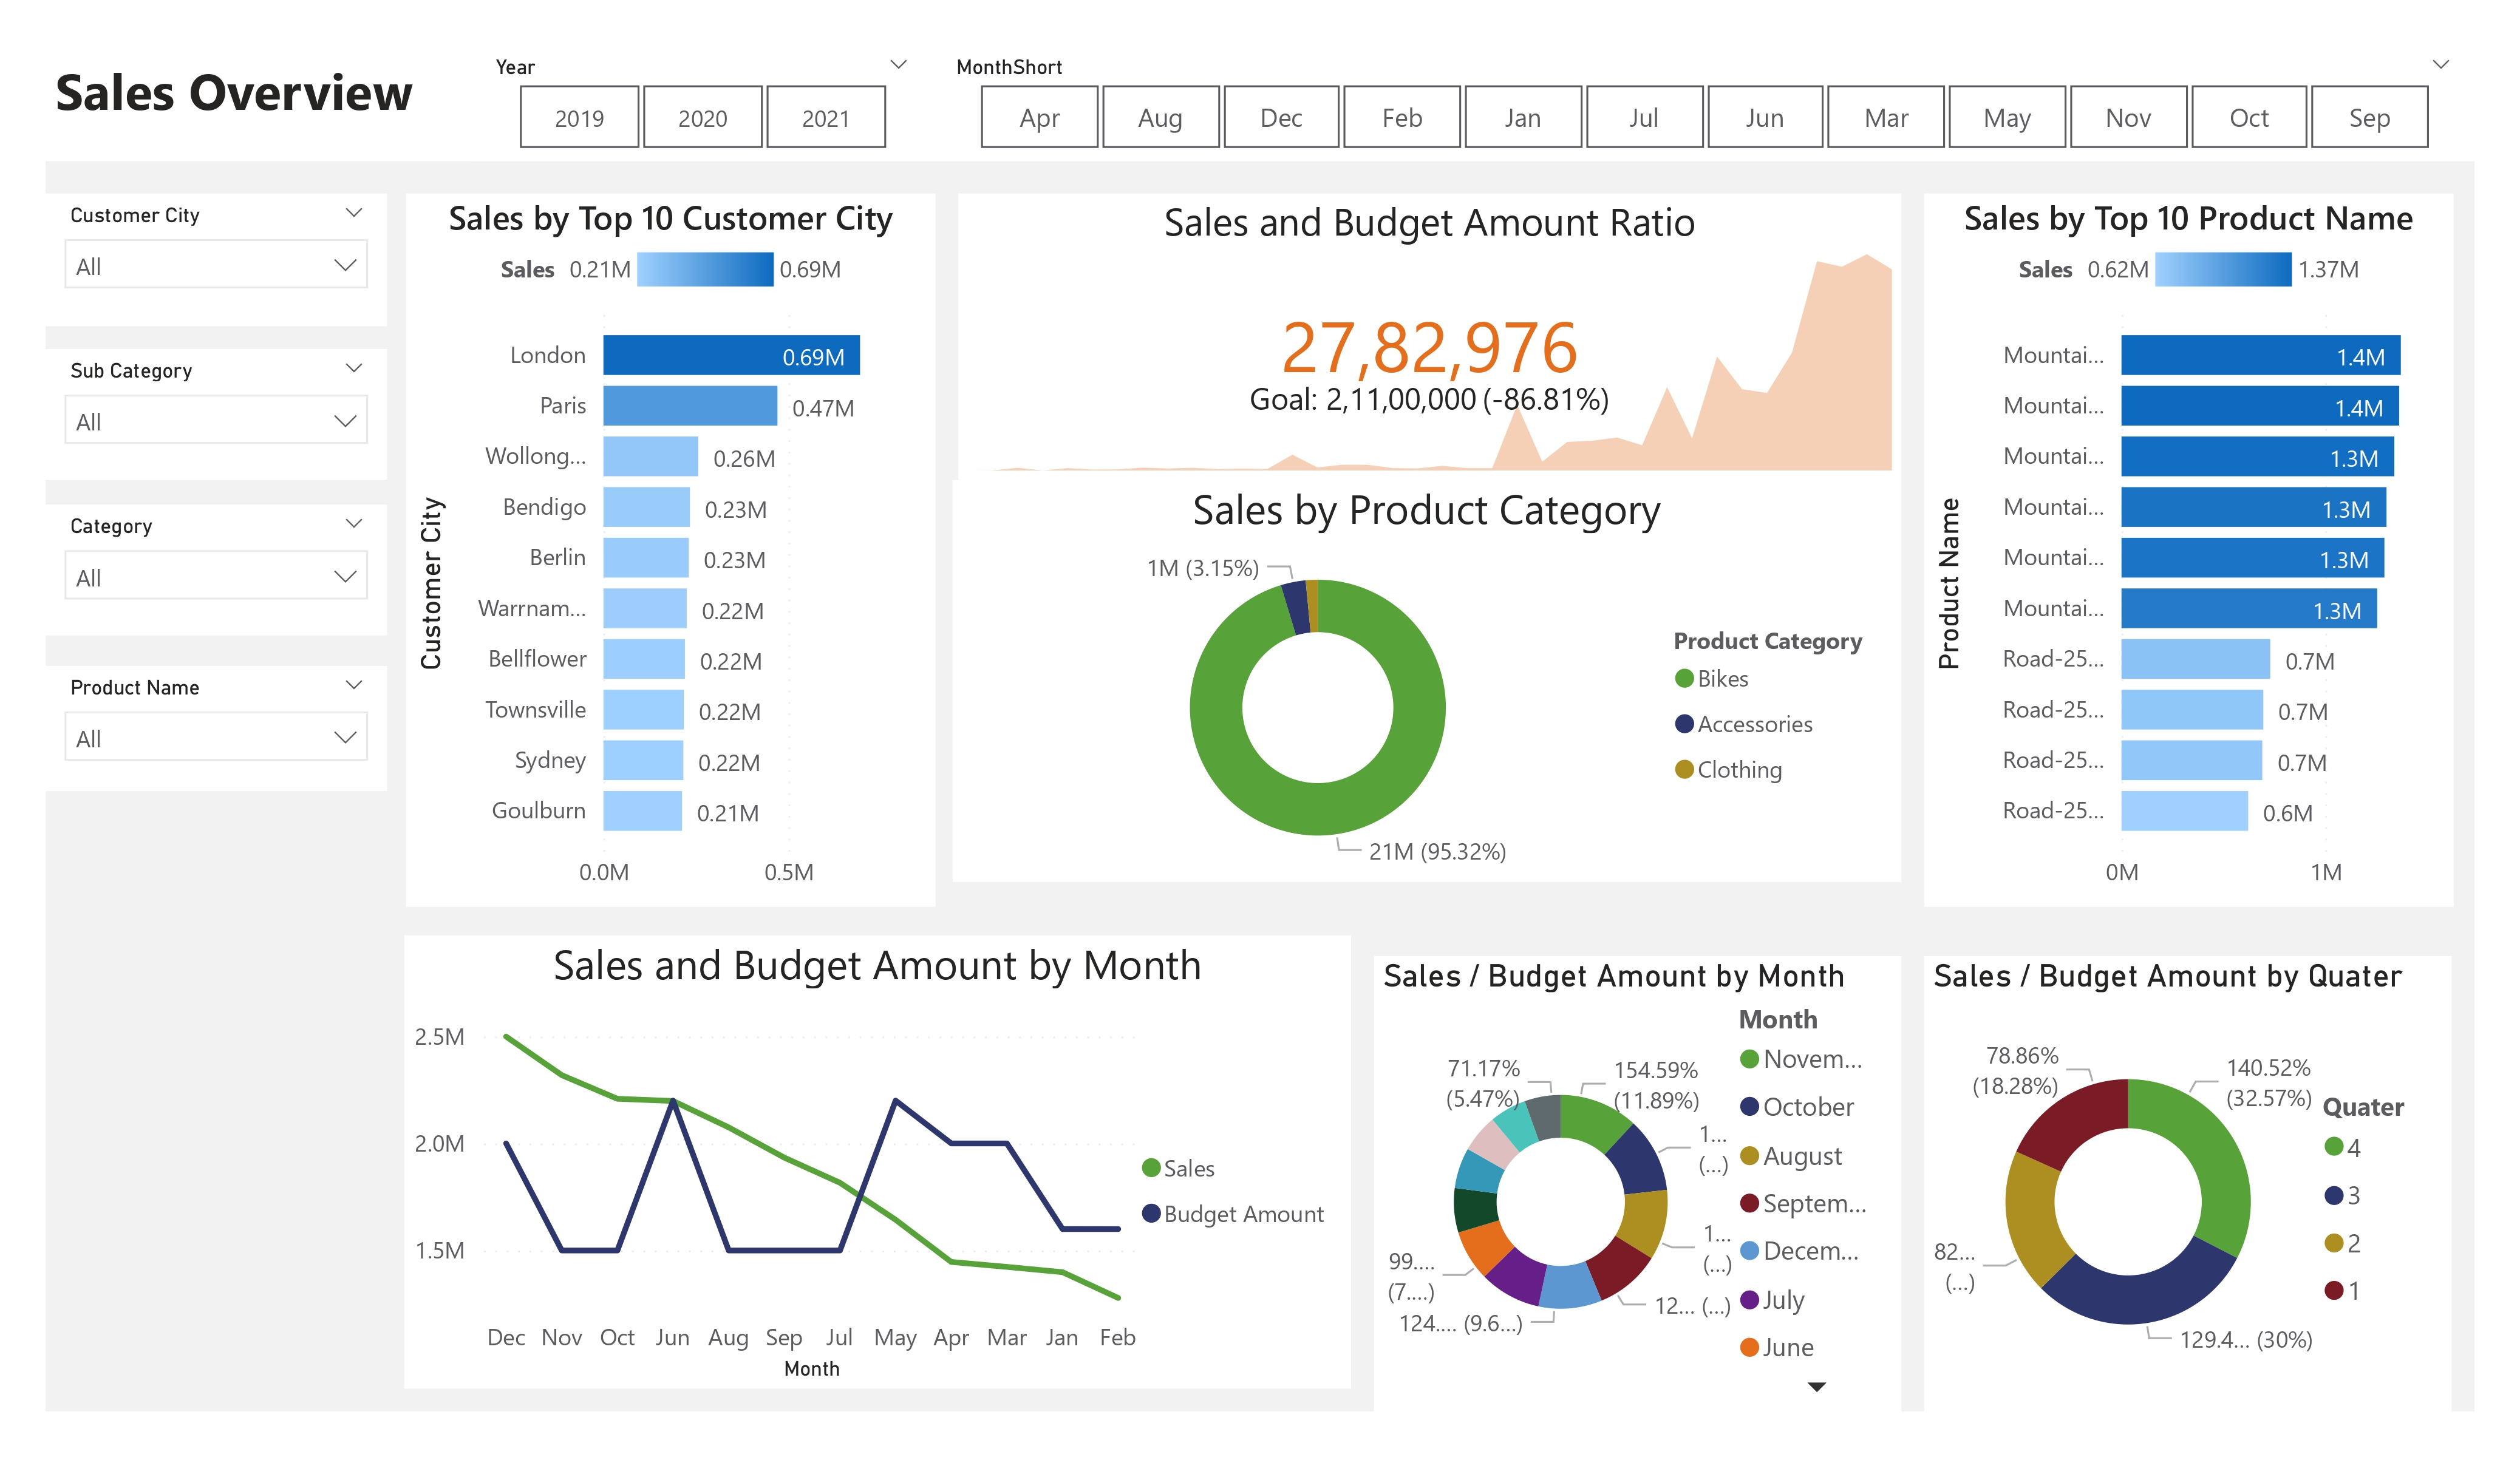

The dashboard page shown, as its layout file describes it:
{"tool":"powerbi","page":{"name":"Sales Overview","canvas":[1280,720],"ordinal":0},"visuals":[{"type":"textbox","box":[0,0,1280,61.1],"z":0},{"type":"slicer","fields":{"Values":["DIM_Customer.Customer City"]},"box":[0,77.8,179.6,70.6],"z":1000},{"type":"slicer","fields":{"Values":["DIM_Products.Sub Category"]},"box":[0,160.4,179.6,68.3],"z":2000},{"type":"slicer","fields":{"Values":["DIM_Products.Product Category"]},"box":[0,241.9,179.6,69.4],"z":3000},{"type":"slicer","fields":{"Values":["DIM_Products.Product Name"]},"box":[0,326.9,179.6,65.9],"z":4000},{"type":"slicer","fields":{"Values":["Dim_Date_Excel.Year"]},"box":[223.9,0,243.1,61.1],"z":5000},{"type":"slicer","fields":{"Values":["Dim_Date_Excel.MonthShort"]},"box":[467,0,813,61.1],"z":6000},{"type":"kpi","title":"Sales and Budget Amount Ratio","fields":{"Indicator":["Key Measures.Sales"],"Goal":["Key Measures.Budget_Amount"],"TrendLine":["FactInternetSale.SalesAmount"]},"box":[481,77.8,496.8,151.2],"z":7000},{"type":"donutChart","fields":{"Category":["DIM_Products.Product Category"],"Y":["Key Measures.Sales"]},"box":[478.1,229,499.7,211.7],"z":8000},{"type":"lineChart","fields":{"Y":["Key Measures.Sales","Key Measures.Budget_Amount"],"Category":["Dim_Date_Excel.MonthShort"]},"box":[189.5,468.9,498.5,239.2],"z":9000},{"type":"barChart","title":"Sales by Top 10 Customer City","fields":{"Y":["Key Measures.Sales"],"Category":["DIM_Customer.Customer City"]},"box":[190.1,77.8,279.4,375.8],"z":10000},{"type":"barChart","title":"Sales by Top 10 Product Name","fields":{"Y":["Key Measures.Sales"],"Category":["DIM_Products.Product Name"]},"box":[990.2,77.8,279,376],"z":11000},{"type":"donutChart","fields":{"Category":["Dim_Date_Excel.Month","Dim_Date_Excel.Quater"],"Y":["Key Measures.Sales / Budget Amount"]},"box":[700,480,278.3,240],"z":12000},{"type":"donutChart","fields":{"Category":["Dim_Date_Excel.Quater"],"Y":["Key Measures.Sales / Budget Amount"]},"box":[990,480,278.3,240],"z":13000}]}

Visuals, with their boxes in screenshot pixels (x1, y1, x2, y2):
textbox: left=46, top=46, right=2474, bottom=161
slicer - DIM_Customer.Customer City: left=46, top=193, right=386, bottom=327
slicer - DIM_Products.Sub Category: left=46, top=350, right=386, bottom=480
slicer - DIM_Products.Product Category: left=46, top=504, right=386, bottom=636
slicer - DIM_Products.Product Name: left=46, top=666, right=386, bottom=790
slicer - Dim_Date_Excel.Year: left=471, top=46, right=931, bottom=161
slicer - Dim_Date_Excel.MonthShort: left=931, top=46, right=2474, bottom=161
"Sales and Budget Amount Ratio" kpi: left=958, top=193, right=1901, bottom=480
donutChart - DIM_Products.Product Category x Key Measures.Sales: left=953, top=480, right=1901, bottom=881
lineChart - Key Measures.Sales x Key Measures.Budget_Amount: left=405, top=935, right=1351, bottom=1389
"Sales by Top 10 Customer City" barChart: left=406, top=193, right=936, bottom=906
"Sales by Top 10 Product Name" barChart: left=1924, top=193, right=2454, bottom=906
donutChart - Dim_Date_Excel.Month x Dim_Date_Excel.Quater: left=1374, top=956, right=1902, bottom=1411
donutChart - Dim_Date_Excel.Quater x Key Measures.Sales / Budget Amount: left=1924, top=956, right=2452, bottom=1411
